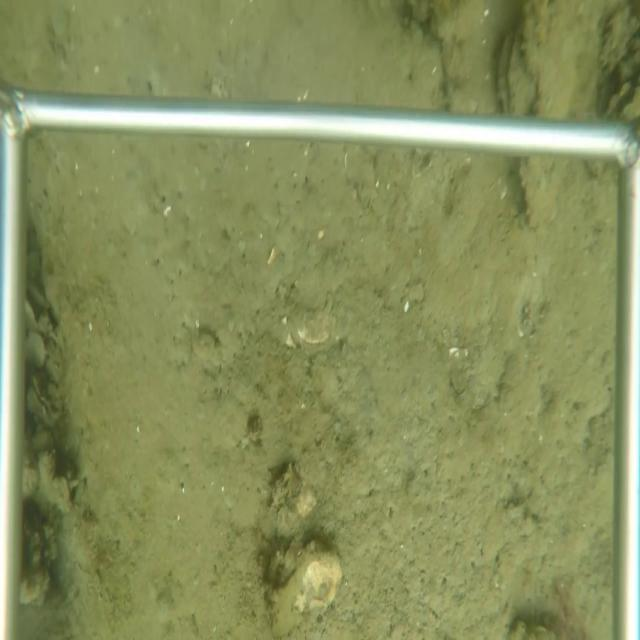Oyster-Indeterminate: (262, 533, 344, 639)
Oyster-Open: (493, 23, 539, 116), (27, 370, 65, 429), (600, 81, 640, 122)
